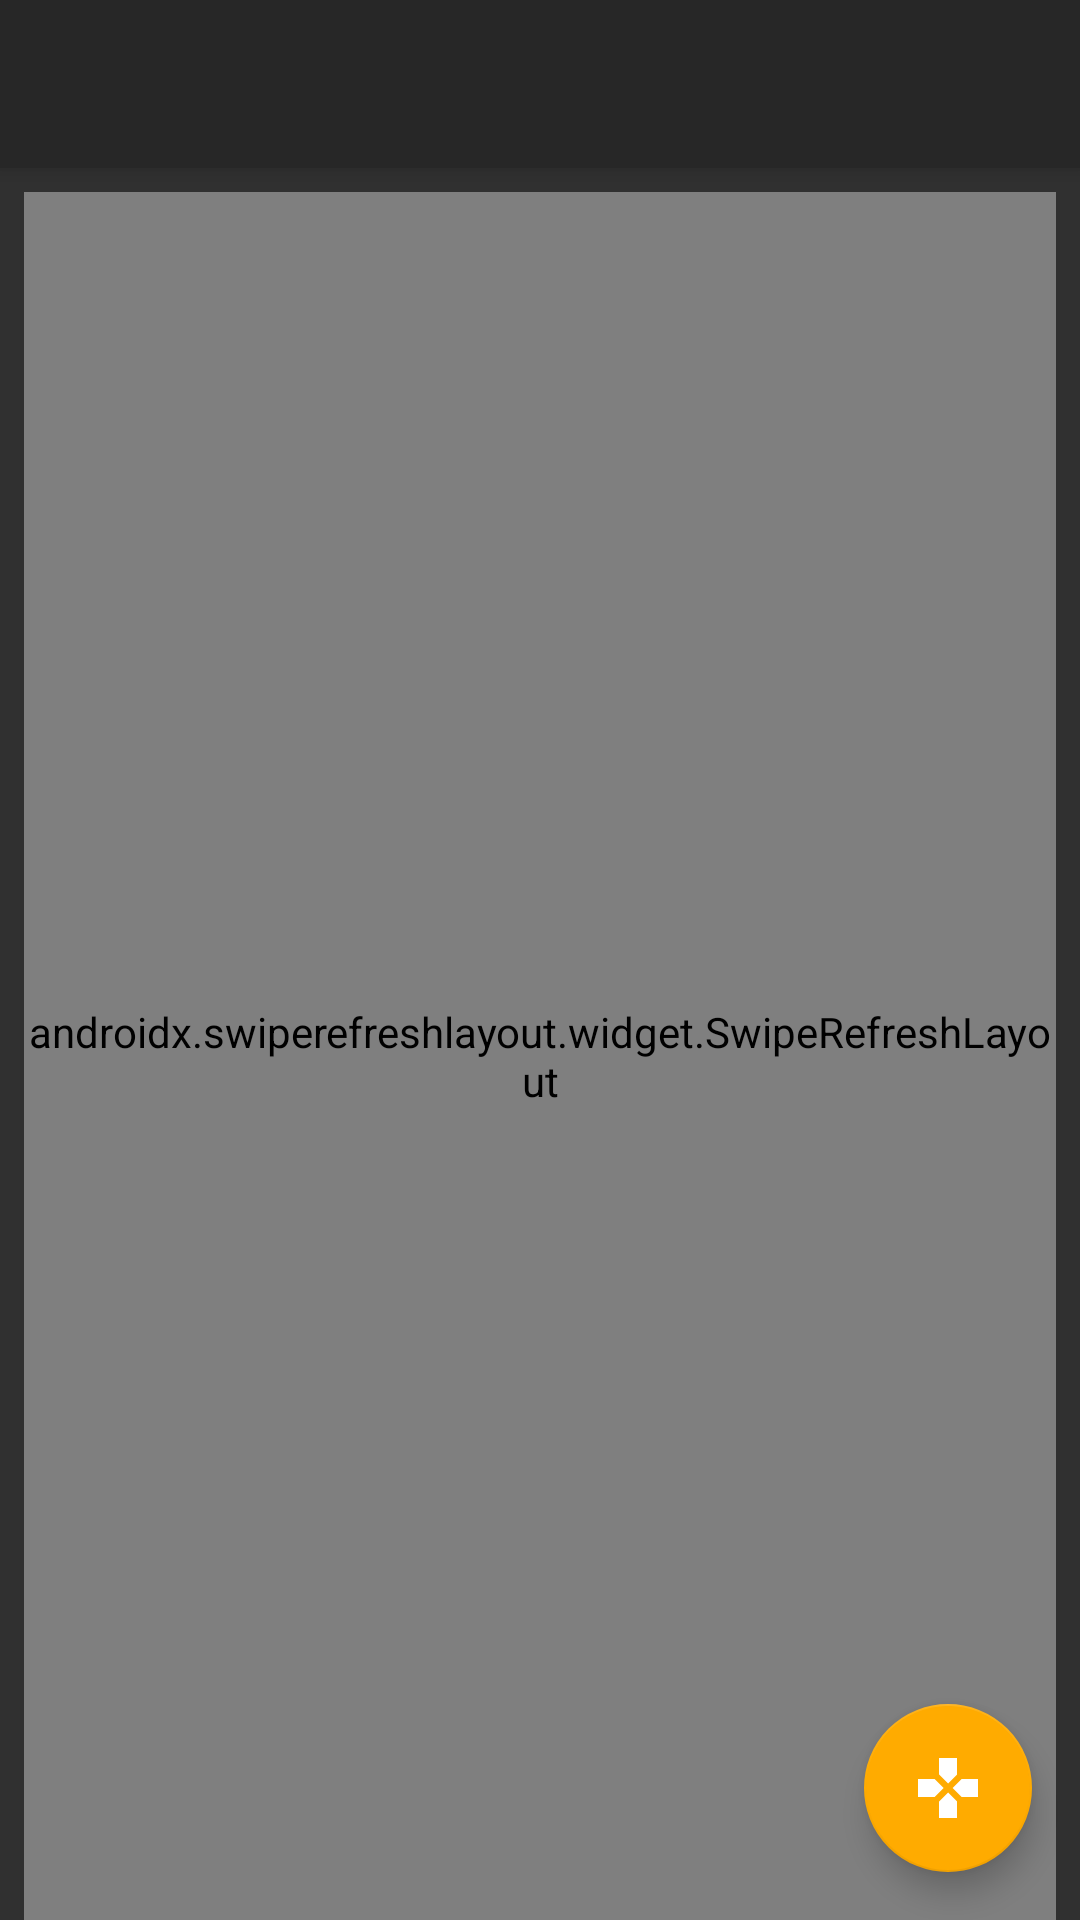

Where icons sit on this 1080px x 1920px app screen, as (x1, y1, x2, y2):
Add Product: (864, 1704, 1032, 1872)
